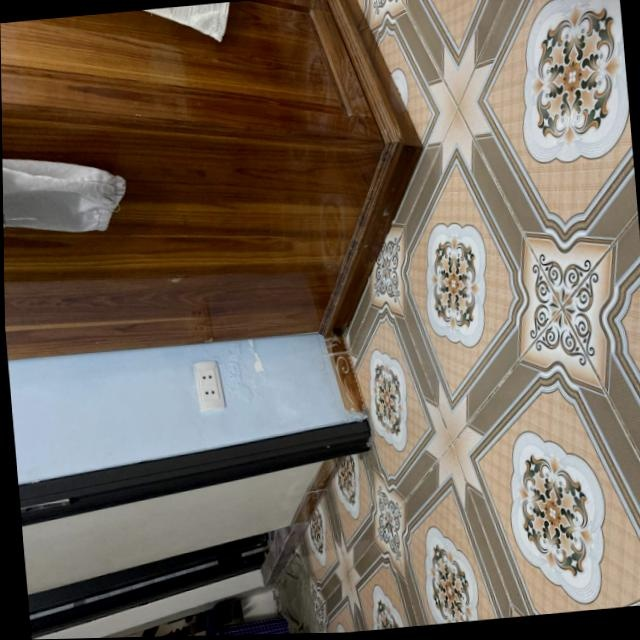outlet: (191, 359, 225, 411)
